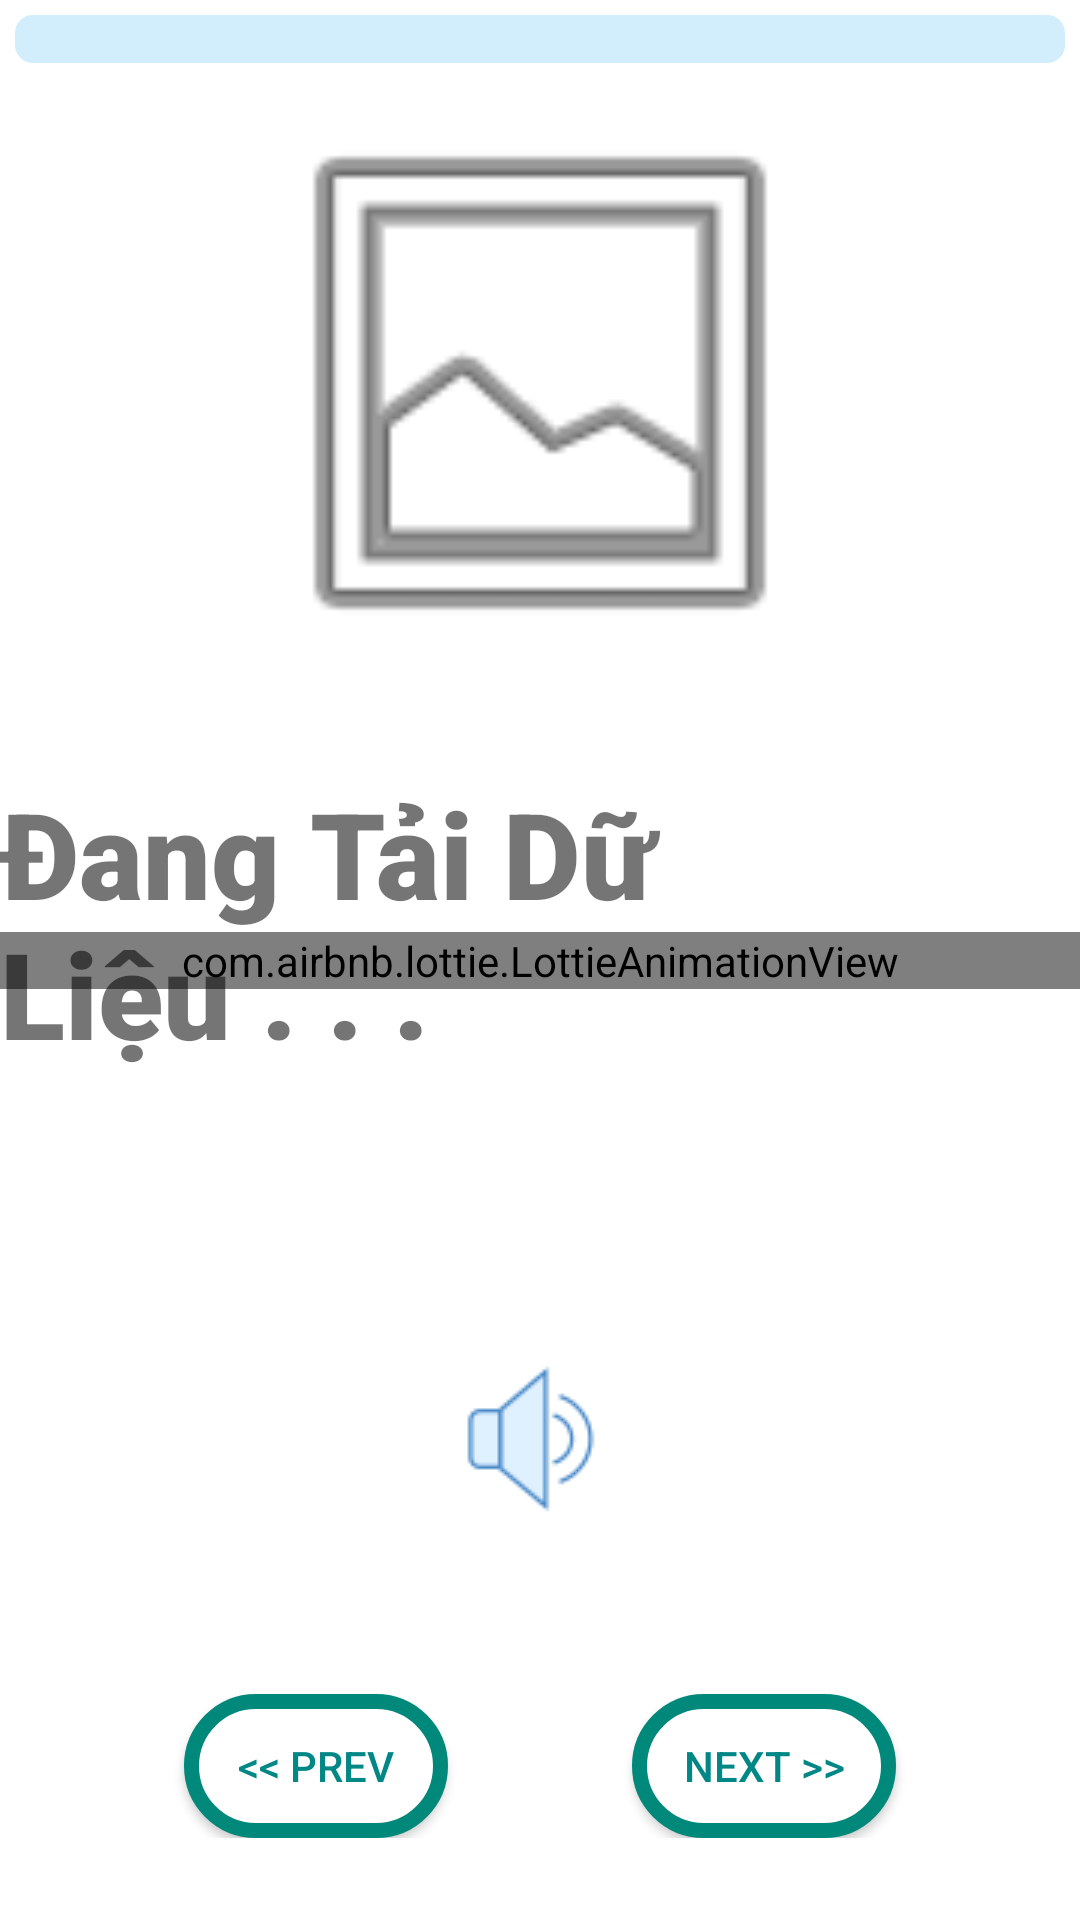

Screen size 1080w x 1920h. Icon name, then its center in pixels as [x,y]:
voice: [531,1439]
